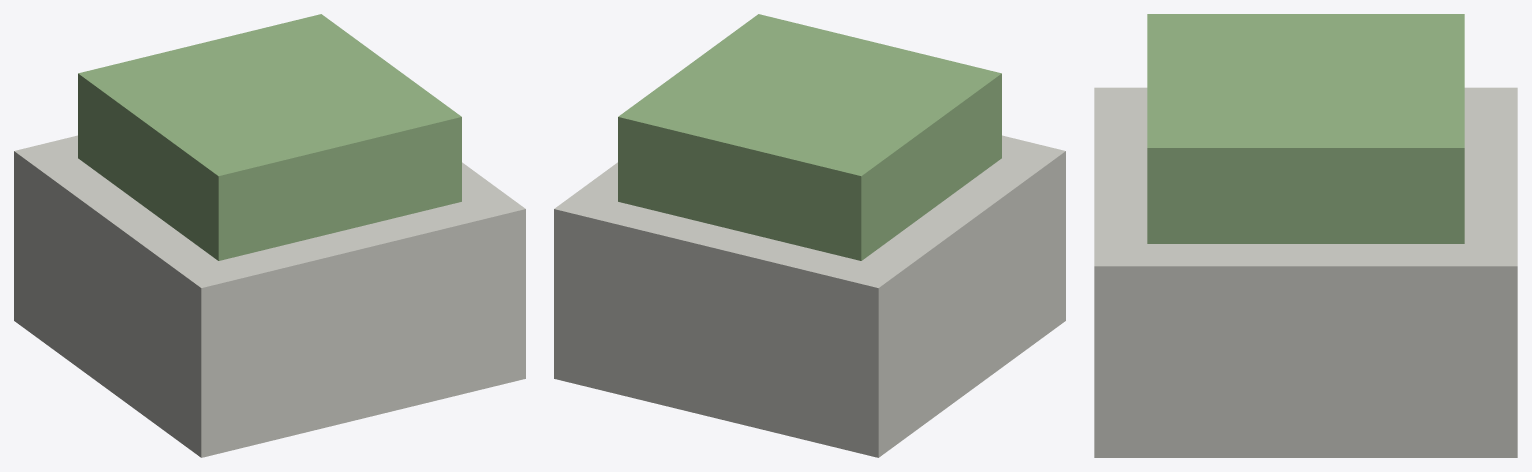
File: prop_planter_small.glb
3 views of the same model, side by side, from view 1: azimuth 30°, elevation 25°; view 2: azimuth 150°, elevation 25°; view 3: azimuth 270°, elevation 25° (orthographic). The views are drawn at different scales.
Parts seen in each view (by area): view 1: prop_planter_small-col; view 2: prop_planter_small-col; view 3: prop_planter_small-col.
Boxes of the visible parts, box(x1,y1,x2,y2) form: prop_planter_small-col: box(14, 14, 525, 457); prop_planter_small-col: box(554, 14, 1065, 457); prop_planter_small-col: box(1094, 14, 1517, 457).
Bounding box in the file's own units: 1 × 0.75 × 1.
